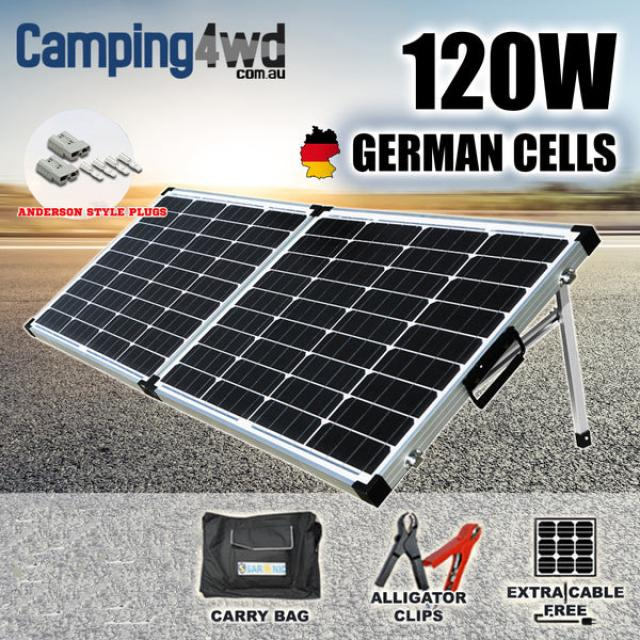clean-solar-panel: (480, 234, 568, 262)
